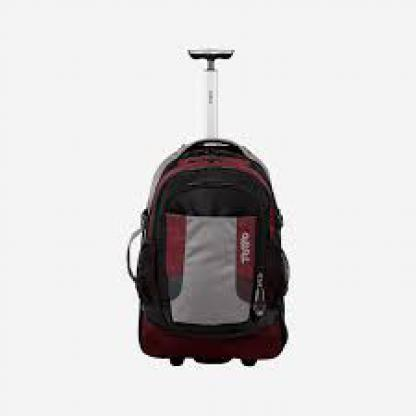morral: (107, 37, 311, 377)
